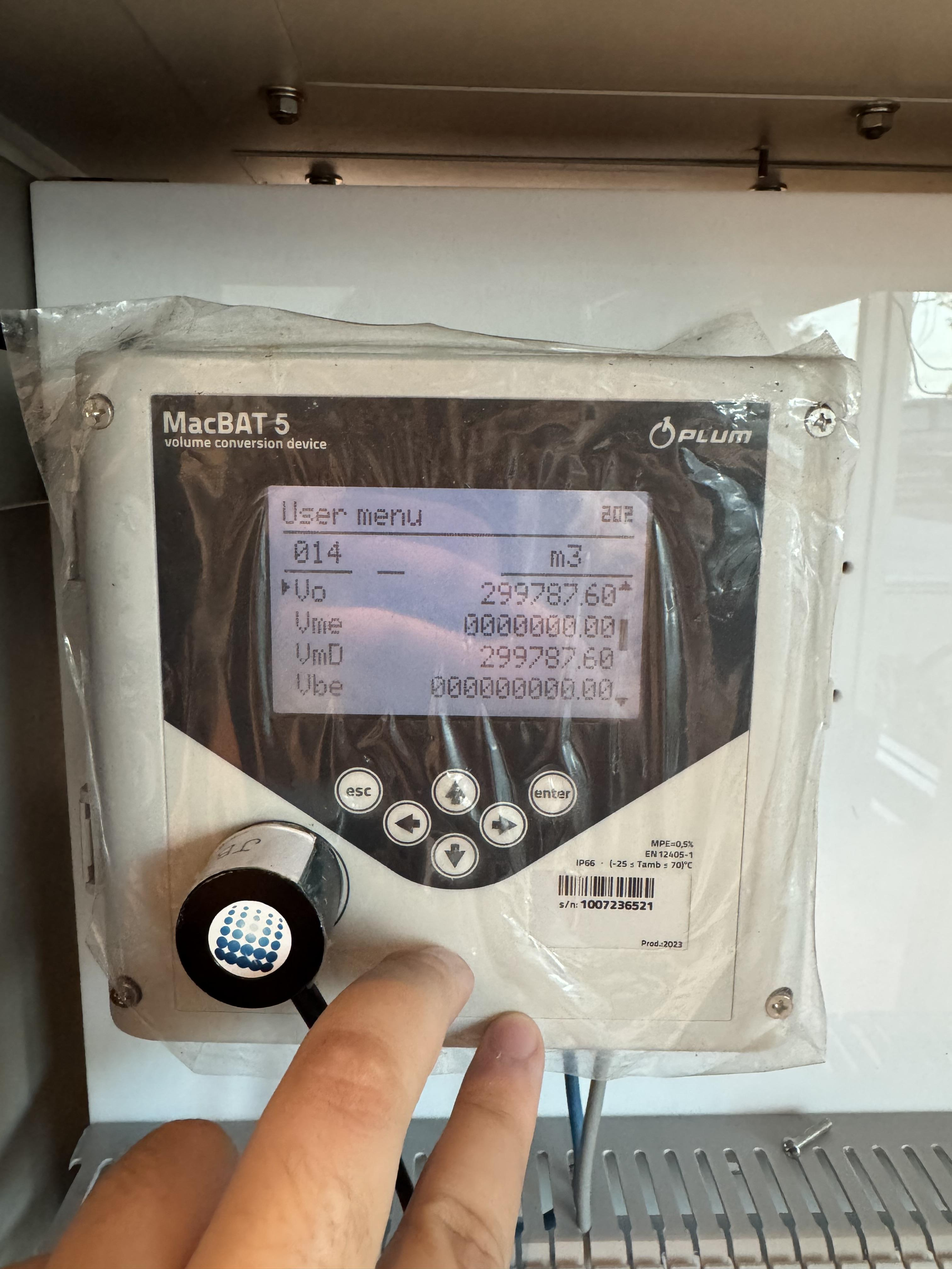digital_screen: (262, 487, 652, 720)
